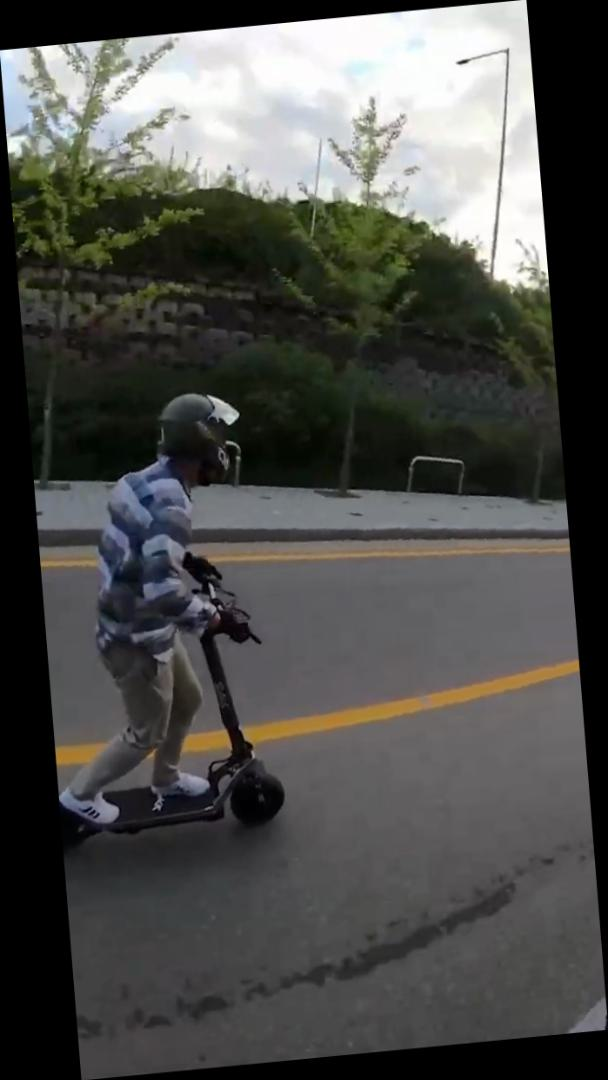helmet: (29, 387, 293, 850)
